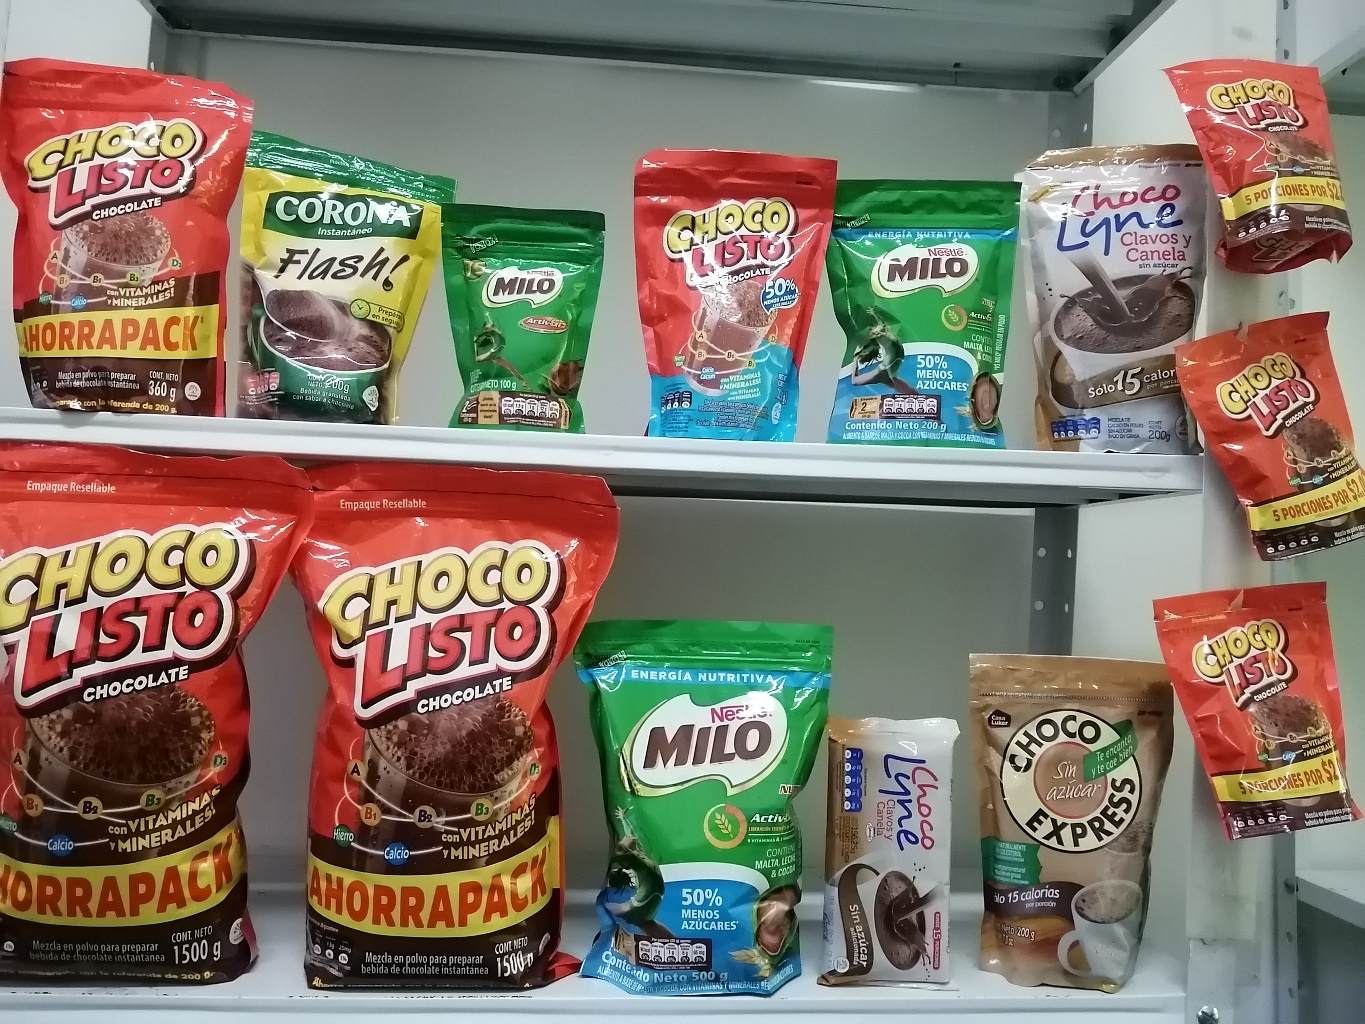COL0170103DYP1,500: (262, 446, 644, 999)
COL0170103DYP36000: (8, 40, 266, 423)
COL0170104DYP20000: (615, 132, 836, 450)
COL0170203DYP10000: (423, 191, 607, 456)
COL0170205DYP20000: (809, 158, 1024, 458)
COL0170205DYP50000: (552, 601, 850, 1002)
